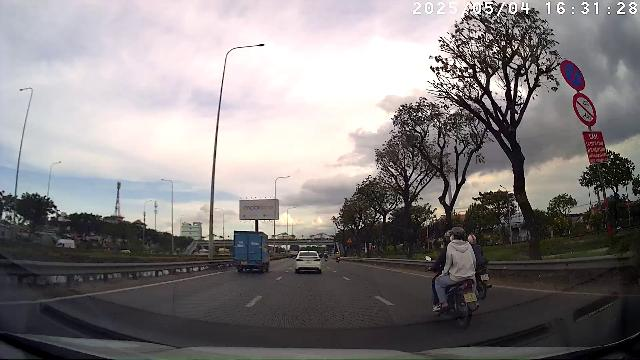130-cam-dung-va-do-xe: (560, 60, 586, 90)
